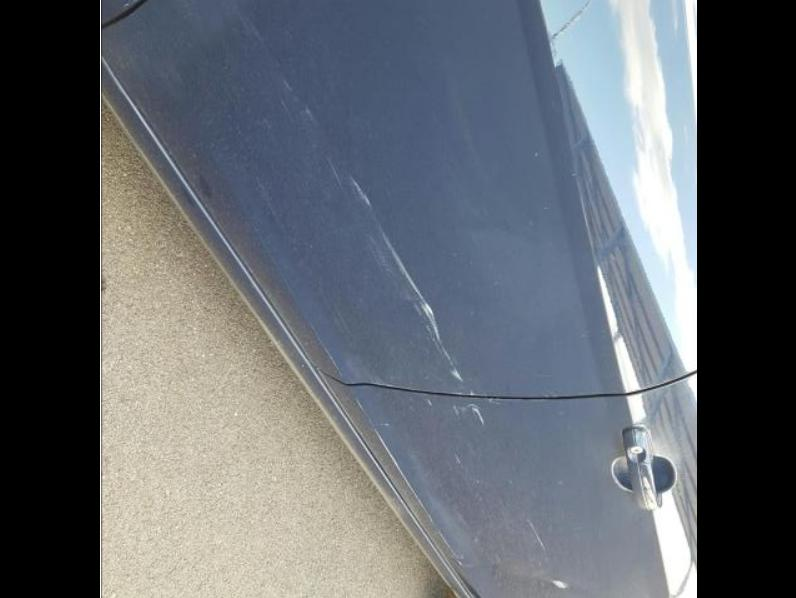Dent: (328, 162, 455, 345), (480, 555, 601, 598), (269, 61, 332, 136), (451, 217, 527, 243)
Paint chip: (547, 578, 570, 589)
Scratch: (376, 230, 465, 382), (374, 427, 466, 573), (308, 320, 345, 371), (519, 516, 548, 555), (450, 402, 489, 428), (240, 6, 264, 41), (350, 176, 372, 208), (349, 392, 368, 417), (360, 380, 419, 388), (325, 158, 342, 180), (275, 93, 291, 116), (302, 99, 316, 118), (451, 453, 464, 470), (447, 389, 482, 395), (419, 398, 436, 409), (487, 400, 512, 406), (283, 79, 294, 92), (382, 424, 393, 434)
